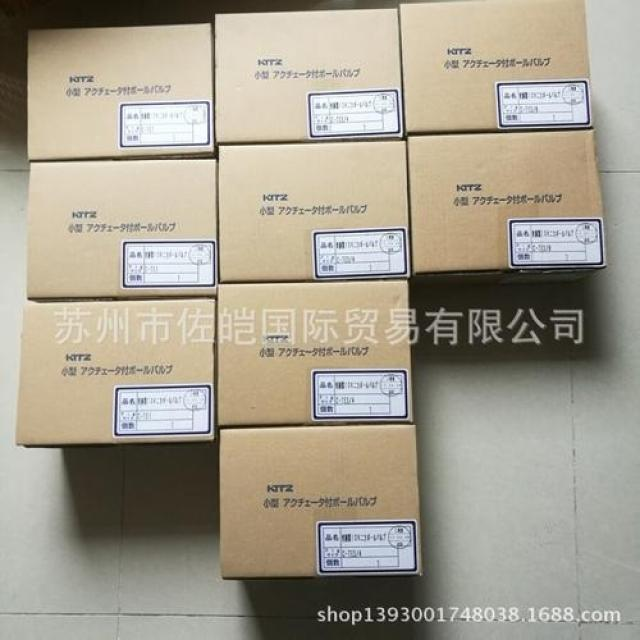box: (220, 425, 424, 581), (407, 129, 607, 285), (17, 297, 216, 449), (216, 280, 415, 426), (399, 0, 595, 140), (216, 140, 411, 280), (28, 159, 219, 300), (26, 22, 215, 163), (214, 9, 404, 143)
